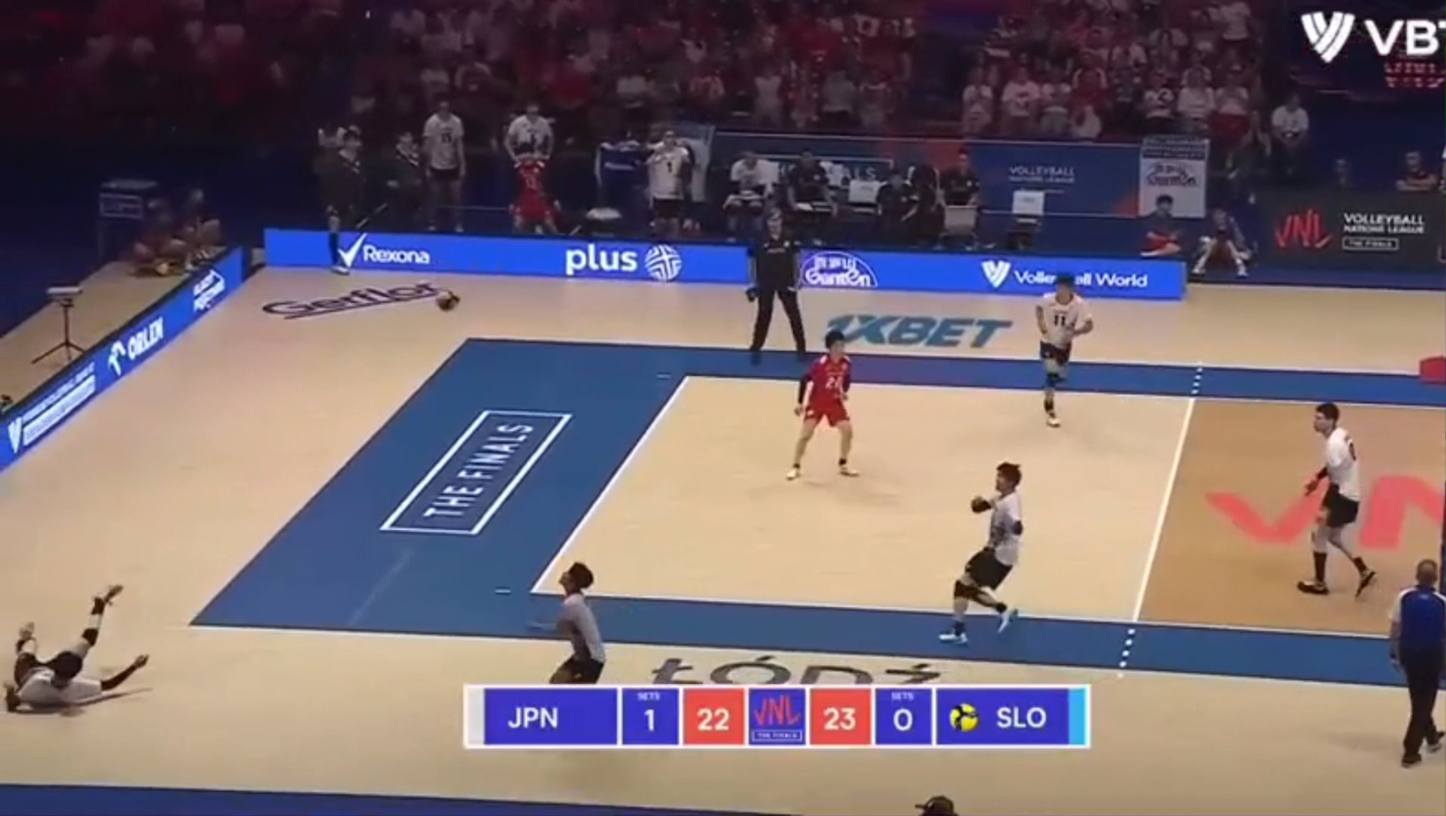ball: (435, 289, 459, 311)
player 1: (7, 585, 147, 709), (1297, 403, 1376, 595), (941, 462, 1024, 643), (787, 330, 857, 479), (1035, 275, 1093, 427), (549, 562, 606, 684)
referee: (1389, 560, 1445, 765), (746, 211, 807, 362)
